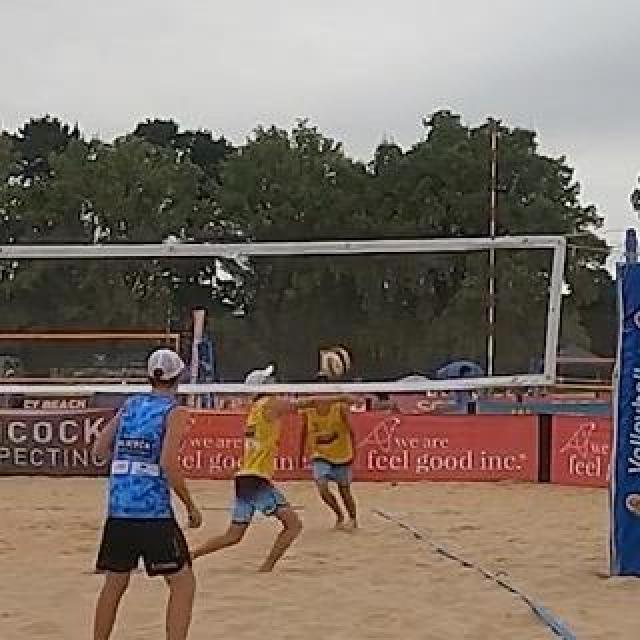volleyball: (322, 346, 352, 376)
